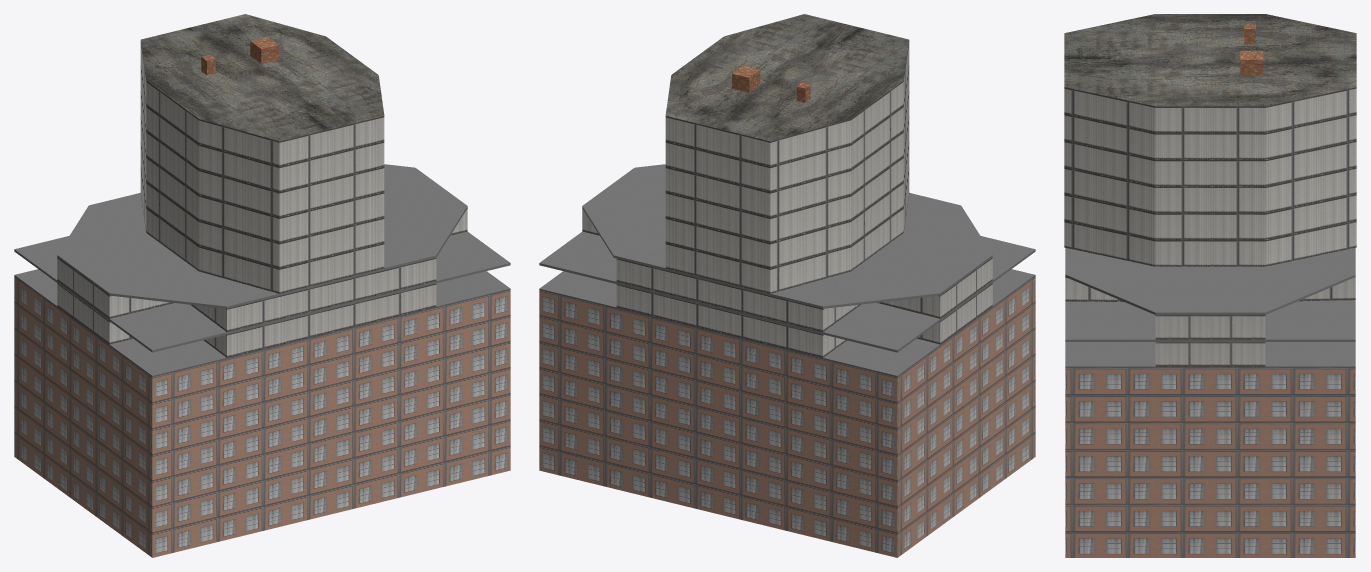
The model's file is LOD01_Building_15stores_HouseOffice.obj.
The picture shows the model from 3 angles, left to right: view 1: azimuth 30°, elevation 25°; view 2: azimuth 150°, elevation 25°; view 3: azimuth 270°, elevation 25°; orthographic projection. The views are drawn at different scales.
Parts seen in each view (by area): view 1: LOD01_Building_15stores_HouseOffice; view 2: LOD01_Building_15stores_HouseOffice; view 3: LOD01_Building_15stores_HouseOffice.
Part boxes in pixels (x1,y1,x2,y2): LOD01_Building_15stores_HouseOffice: [14, 14, 510, 557]; LOD01_Building_15stores_HouseOffice: [539, 14, 1035, 557]; LOD01_Building_15stores_HouseOffice: [1064, 14, 1356, 557].
Size of the model in its own units: 15.81 by 16.92 by 10.63.
